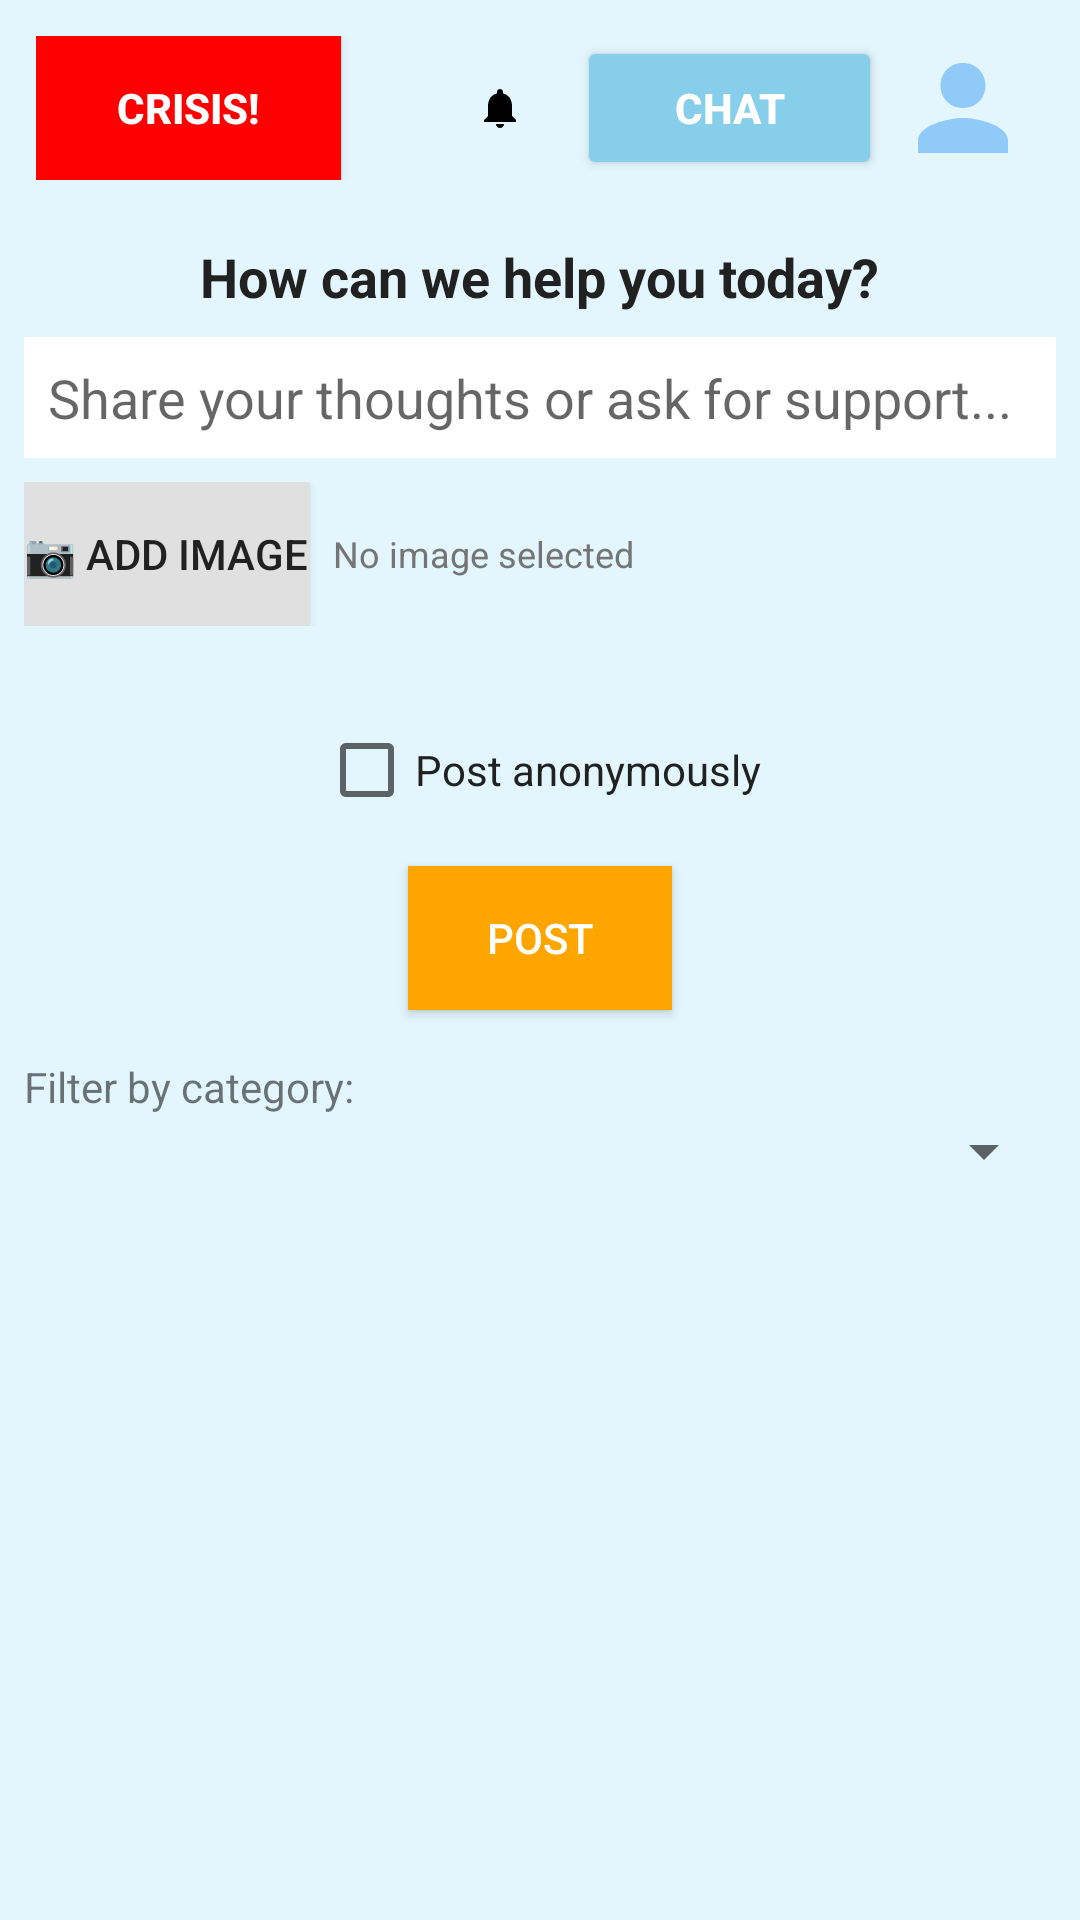

Icons on this 1080w x 1920h Android screen, each with its box as (x1, y1, x2, y2):
Notifications: (484, 89, 516, 128)
Profile Picture: (918, 63, 1008, 153)
